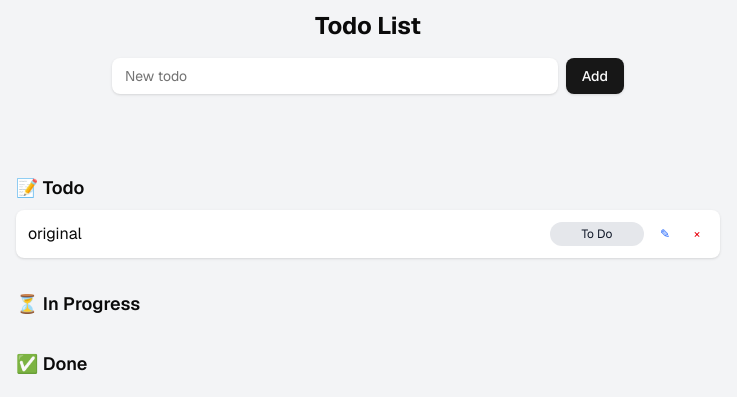
Test: Home page data flow › optimistically updates text on edit and reconciles on success
Expected: the text "original" is shown, left=28, top=222, right=82, bottom=246
# click edit button, change text, save
Click the button named "Edit todo" at (665, 234), box left=652, top=222, right=678, bottom=246
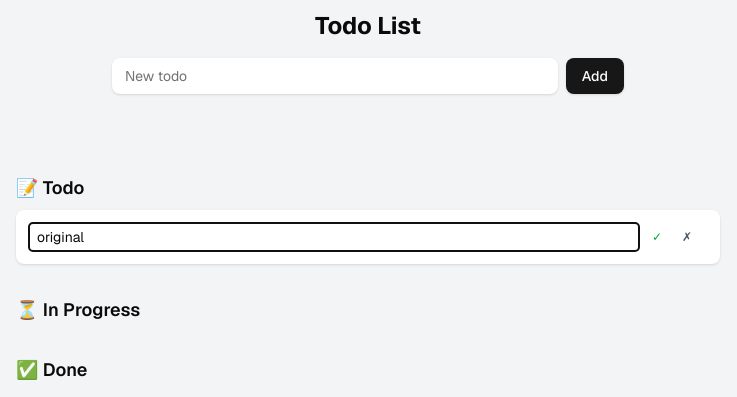
Replace the text in the field named "Edit todo text" with "edited" at (334, 237), box left=28, top=222, right=640, bottom=252
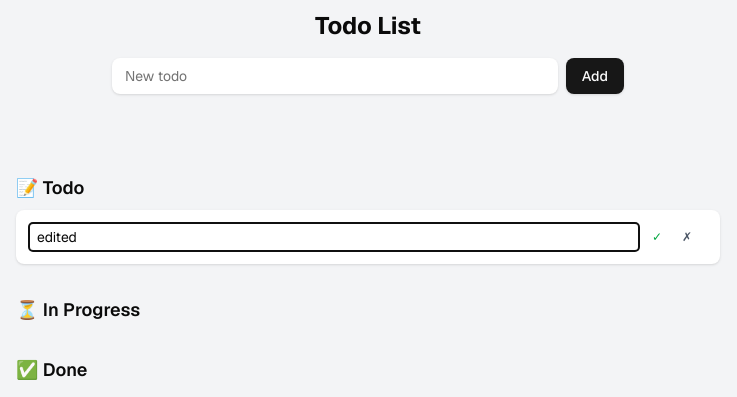
Press Enter in the field named "Edit todo text", box left=28, top=222, right=640, bottom=252
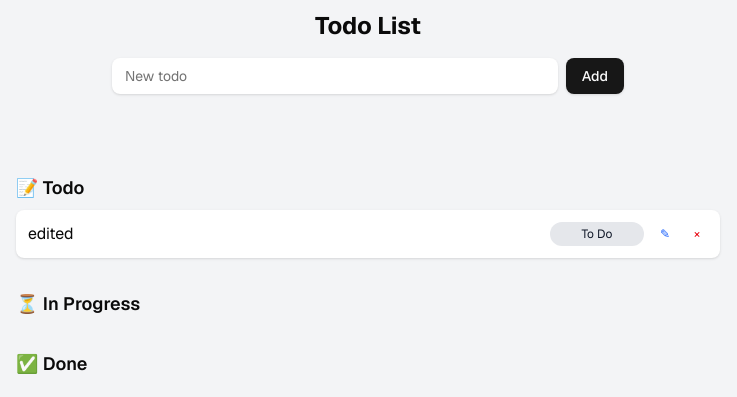
Now the text "edited" is shown, box left=28, top=222, right=74, bottom=246
